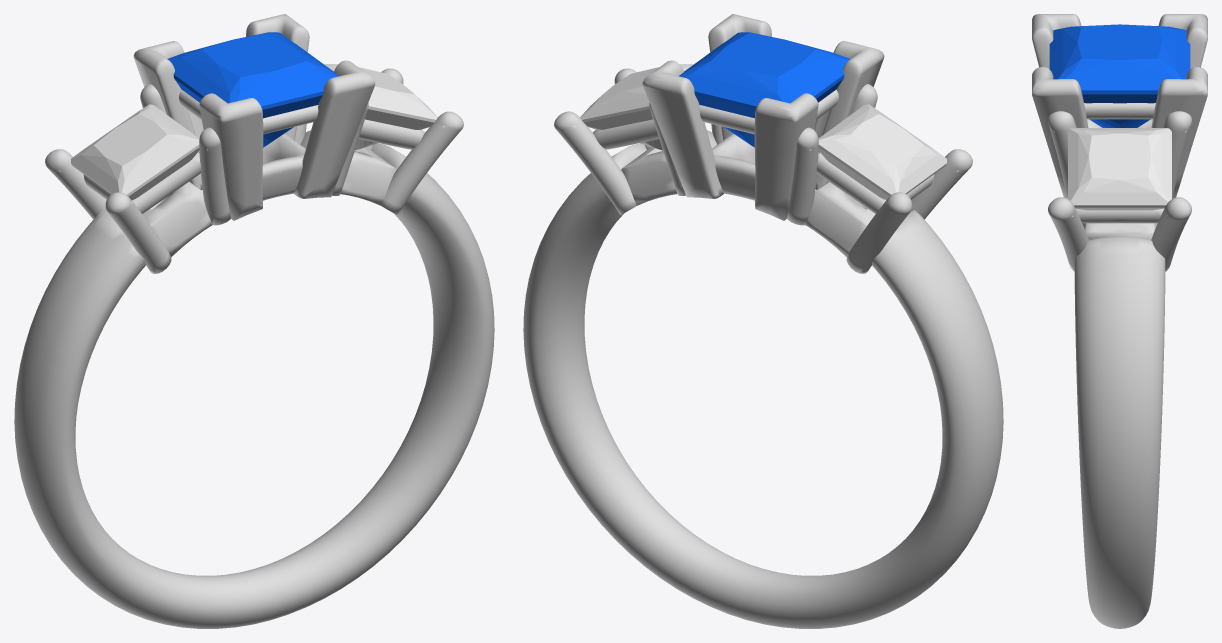
File: bluesapphire-princess-platinum-protectededges4prongs-taperedband-3stone.glb
The picture shows the model from 3 angles, left to right: view 1: azimuth 30°, elevation 25°; view 2: azimuth 150°, elevation 25°; view 3: azimuth 270°, elevation 25°; orthographic projection.
Visible parts, largest first — view 1: metal, stone, side.001, side; view 2: metal, stone, side.001, side; view 3: metal, stone, side.
Part boxes in pixels (bbox=[...]): metal: bbox=[14, 14, 494, 628]; stone: bbox=[167, 32, 338, 147]; side.001: bbox=[71, 104, 199, 200]; side: bbox=[324, 64, 437, 150]; metal: bbox=[523, 14, 1003, 628]; stone: bbox=[679, 32, 850, 147]; side.001: bbox=[818, 104, 946, 200]; side: bbox=[580, 64, 693, 150]; metal: bbox=[1032, 14, 1207, 628]; stone: bbox=[1049, 24, 1190, 127]; side: bbox=[1068, 128, 1171, 210].
Bounding box in the file's own units: 20.5 × 23.84 × 6.77.
